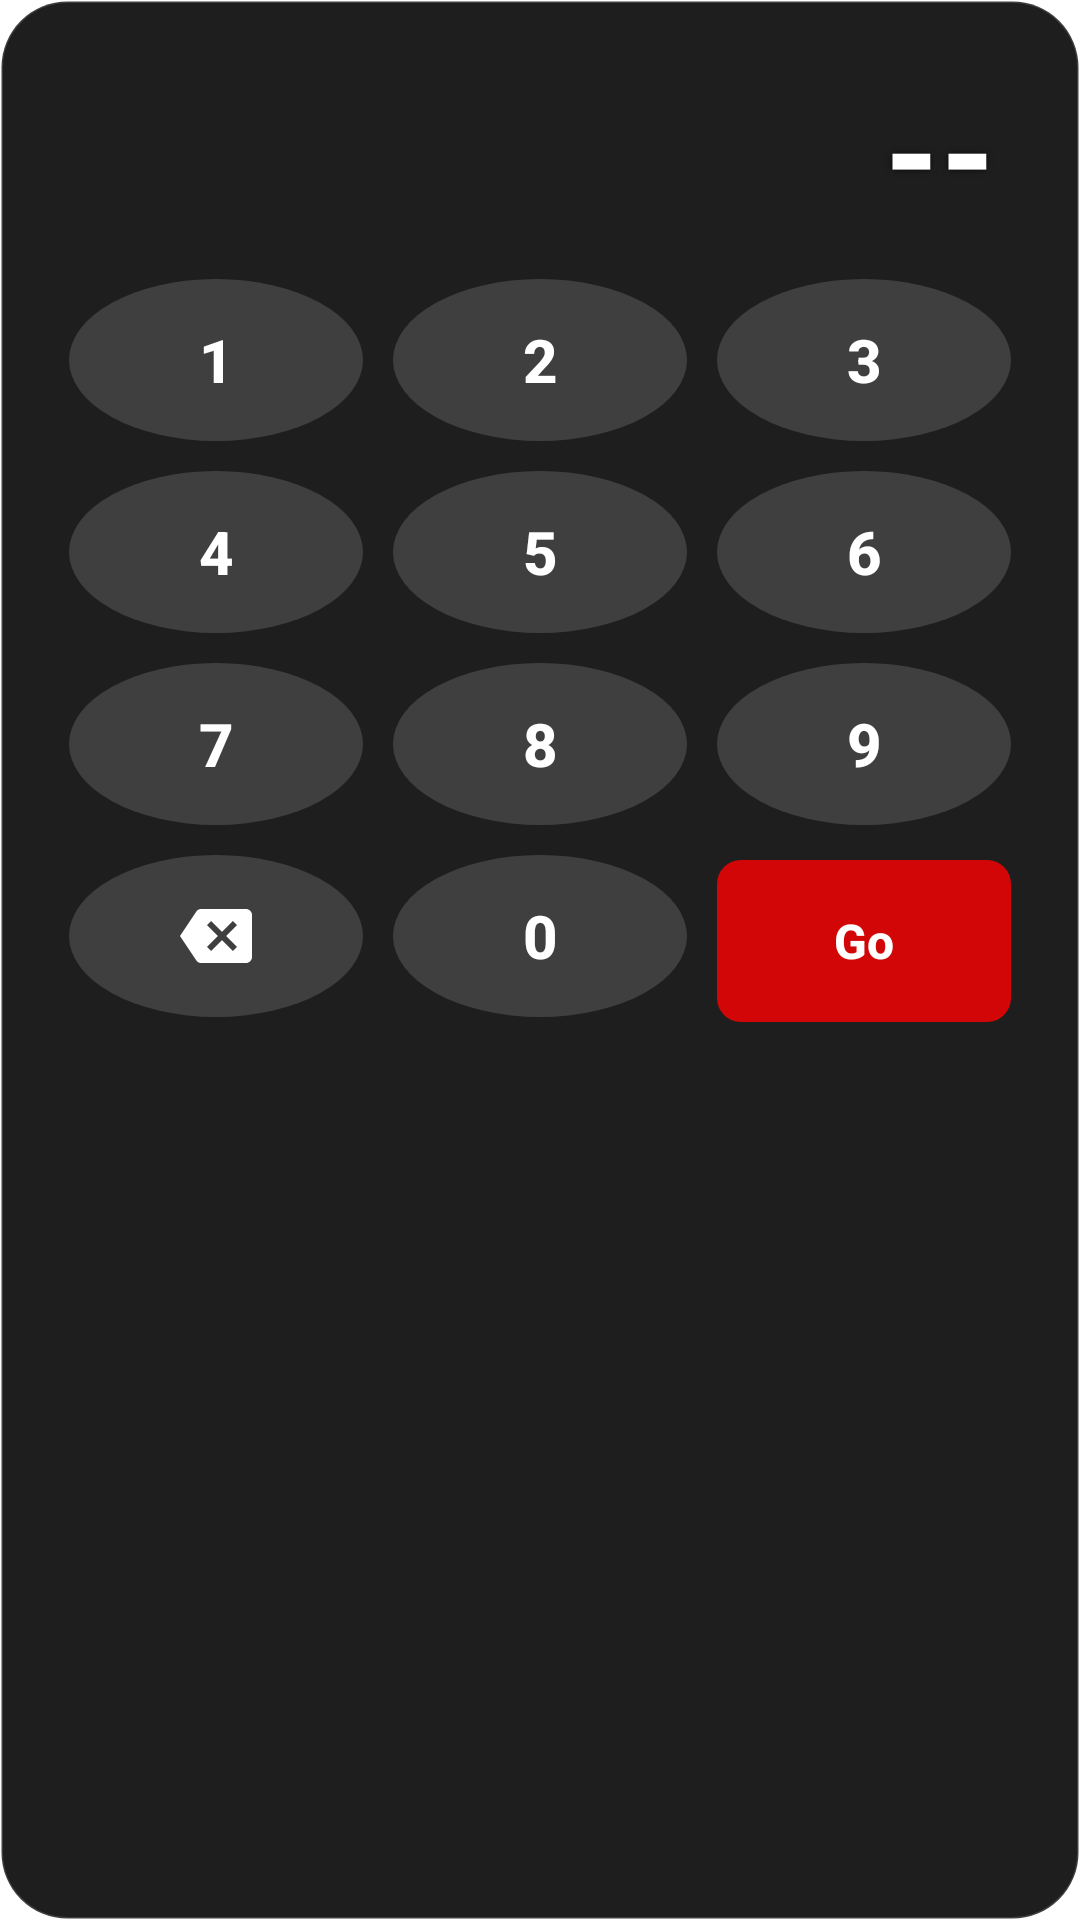

Locate icon controls on the screen. Image size 1080px x 1920px, boxes as [left=x1, top=y1, right=x2, bottom=y2].
Delete last digit: [left=69, top=855, right=363, bottom=1017]
